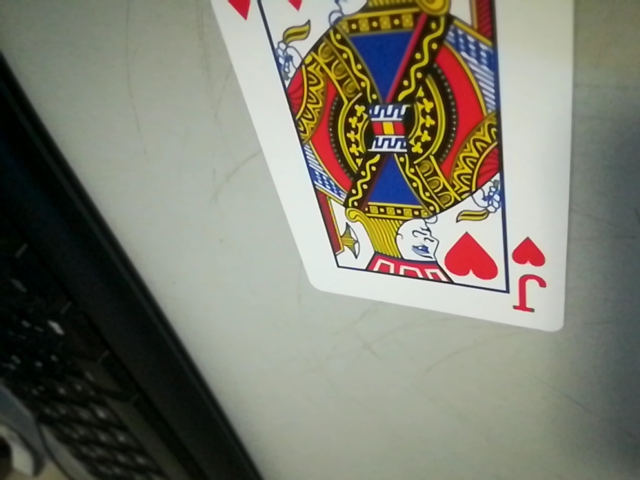hx j: (502, 233, 559, 321)
